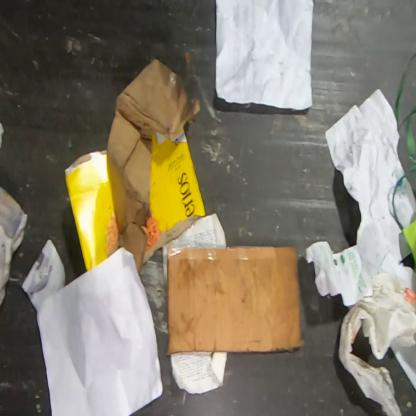cardboard: (64, 57, 206, 275), (166, 245, 305, 356)
soft_plastic: (338, 272, 415, 415)
